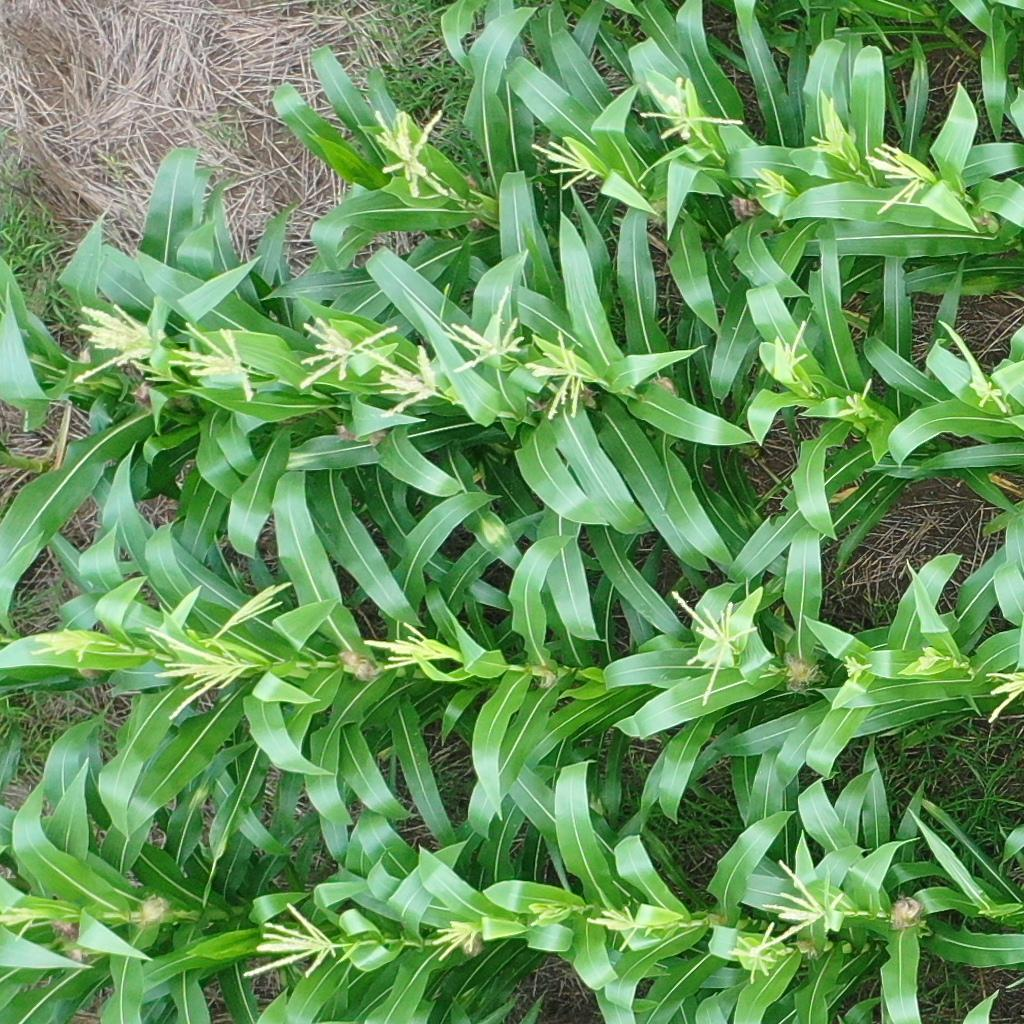Tassel: (668, 591, 756, 703), (149, 626, 252, 721), (241, 903, 342, 982), (294, 315, 399, 390), (71, 301, 161, 384), (166, 321, 257, 402), (370, 108, 451, 198), (441, 287, 524, 372), (635, 78, 745, 140), (361, 346, 443, 418), (762, 860, 829, 945), (526, 331, 587, 423), (866, 142, 924, 217), (531, 135, 604, 193), (364, 623, 453, 670), (728, 920, 785, 984), (226, 582, 291, 631), (587, 902, 639, 954), (980, 666, 1024, 724), (32, 627, 95, 663), (773, 321, 810, 381), (431, 922, 480, 963), (812, 97, 846, 155), (1, 903, 41, 943), (838, 377, 876, 418), (752, 166, 792, 201), (969, 380, 1010, 414), (913, 644, 951, 670), (841, 654, 872, 681), (528, 908, 566, 927)
